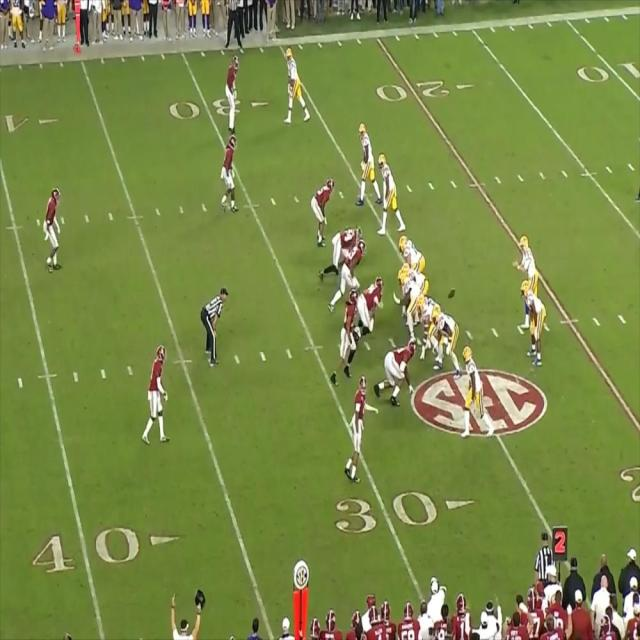center: (398, 271, 422, 329)
db: (148, 346, 166, 446), (351, 383, 365, 478), (48, 192, 62, 276), (224, 134, 238, 210), (226, 53, 239, 124)
lb: (335, 236, 365, 300), (340, 294, 358, 379), (312, 178, 334, 244)
qb: (518, 239, 538, 325)
skill: (526, 283, 547, 365), (379, 154, 401, 232), (466, 349, 488, 427), (284, 47, 306, 119), (358, 123, 376, 200), (520, 235, 539, 280)
